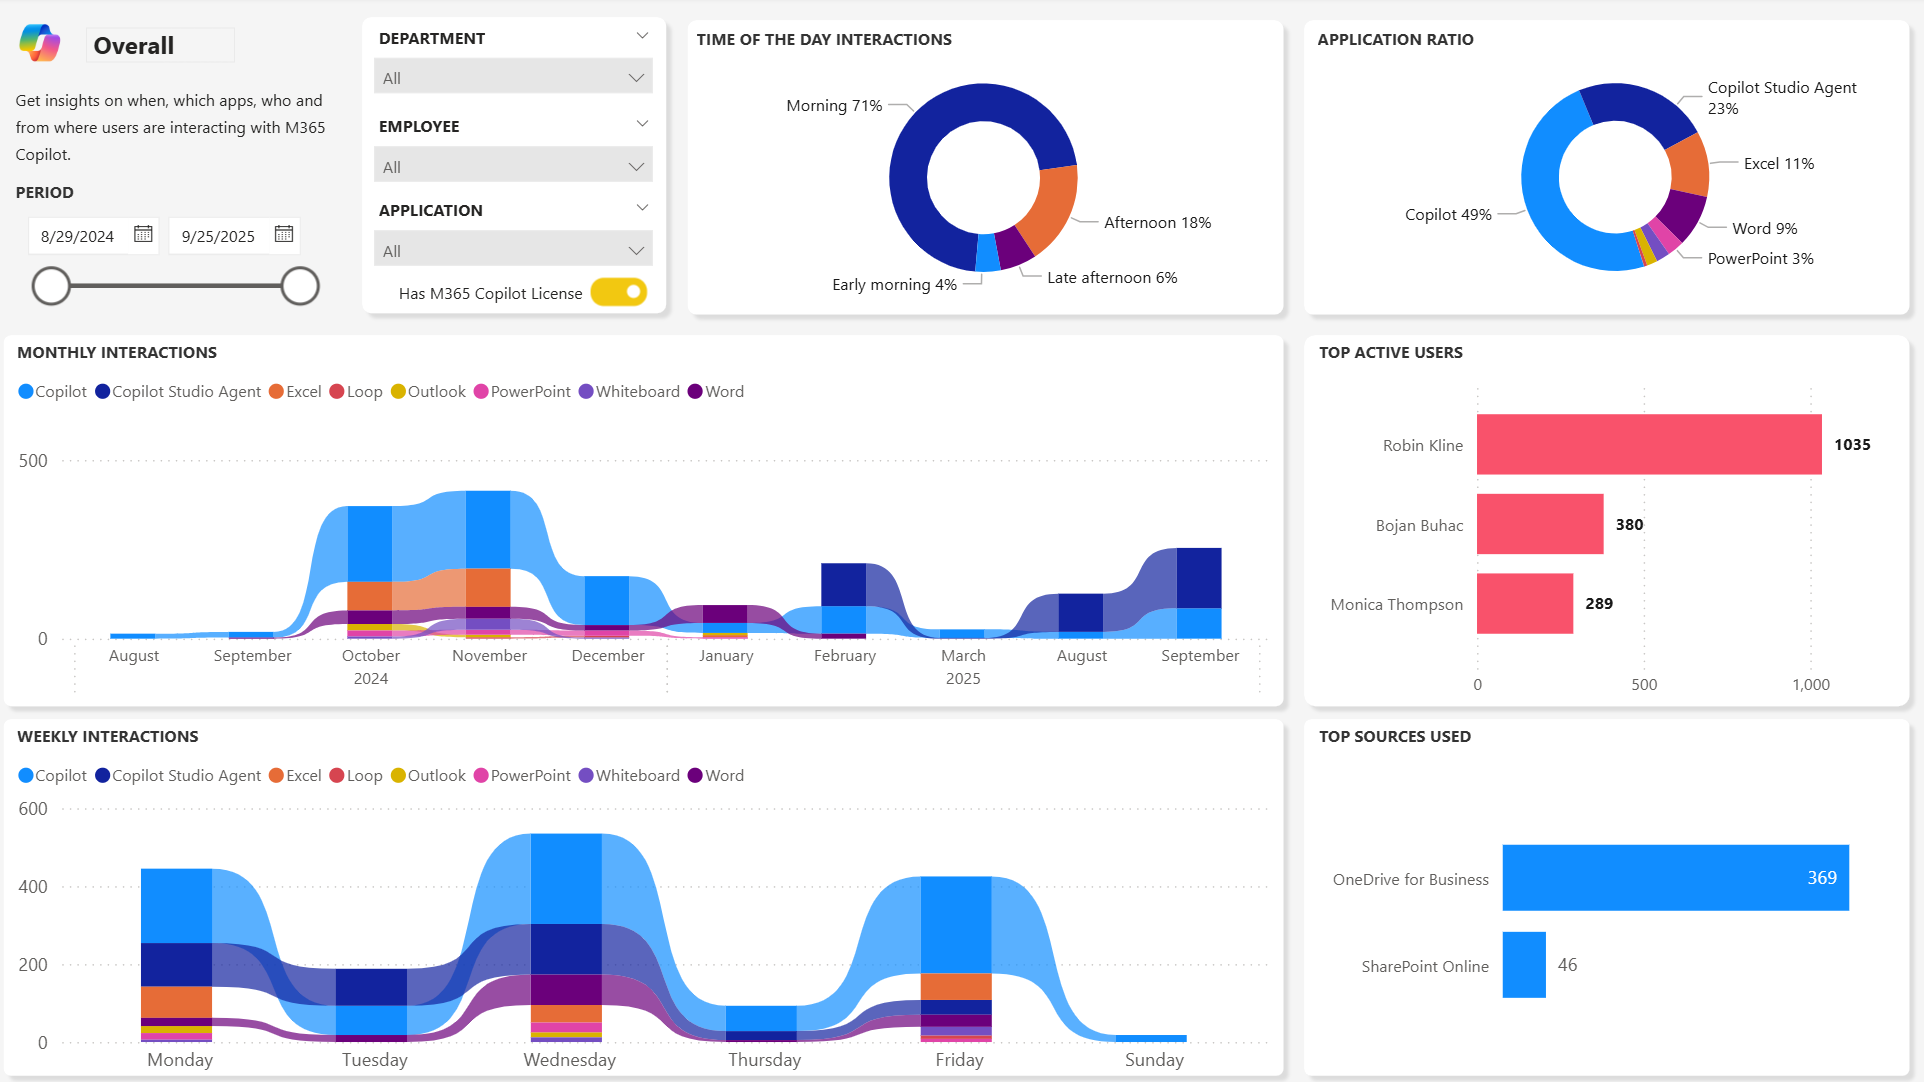

Layout of this report page (visuals, bound fields, positions):
{"tool":"powerbi","page":{"name":"Overall","canvas":[1280,720],"ordinal":0},"visuals":[{"type":"shape","box":[0,217,859.4,259.1],"z":0},{"type":"shape","box":[0,470.8,859.4,249.6],"z":1000},{"type":"shape","box":[859.4,217,413.9,259.1],"z":2000},{"type":"shape","box":[859.4,470.8,413.9,249.6],"z":3000},{"type":"shape","box":[237,7.4,214.9,209.6],"z":4000},{"type":"shape","box":[451.8,8.4,407.6,208.5],"z":5000},{"type":"shape","box":[859.4,8.4,413.9,208.5],"z":6000},{"type":"slicer","fields":{"Values":["Copilot.App"]},"box":[241.4,128.7,204.3,49.5],"z":7000},{"type":"slicer","fields":{"Values":["Users.DEPARTMENT"]},"box":[241.4,14.9,204.3,50.6],"z":8000},{"type":"donutChart","title":"APPLICATION RATIO","fields":{"Category":["Copilot.App"],"Y":["CountNonNull(Copilot.TimeStamp)"]},"box":[870.3,20.9,402.6,182.9],"z":9000},{"type":"ribbonChart","title":"MONTHLY INTERACTIONS","fields":{"Y":["CountNonNull(Copilot.TimeStamp)"],"Category":["Copilot.TimeStamp.Variation.Date Hierarchy.Year","Copilot.TimeStamp.Variation.Date Hierarchy.Month"],"Series":["Copilot.APPLICATION"]},"box":[10.5,227.5,838.4,243.3],"z":10000},{"type":"slicer","title":"PERIOD","fields":{"Values":["Copilot.TimeStamp"]},"box":[10.4,121.6,213.9,88.8],"z":11000},{"type":"ribbonChart","title":"WEEKLY INTERACTIONS","fields":{"Series":["Copilot.App"],"Y":["CountNonNull(Copilot.App)"],"Category":["WeekDays.Week day"]},"box":[10.5,481.3,838.4,239.1],"z":12000},{"type":"barChart","title":"TOP SOURCES USED","fields":{"Y":["CountNonNull(Copilot.TimeStamp)"],"Category":["Copilot.Location"]},"box":[871,481.3,386.5,239.1],"z":13000},{"type":"barChart","title":"TOP ACTIVE USERS","fields":{"Y":["CountNonNull(Copilot.TimeStamp)"],"Category":["Users.EMPLOYEE"]},"box":[871,227.5,395,243.3],"z":14000},{"type":"donutChart","title":"TIME OF THE DAY INTERACTIONS","fields":{"Y":["CountNonNull(Copilot.TimeStamp)"],"Category":["Copilot.Time of the day"]},"box":[460.2,20.9,388.4,183.8],"z":15000},{"type":"slicer","fields":{"Values":["Users.EMPLOYEE"]},"box":[241.4,72.9,204.3,49.5],"z":16000},{"type":"image","box":[10.8,10.8,39.5,39.5],"z":17000},{"type":"textbox","box":[61.8,21,97.7,22.3],"z":18000},{"type":"textbox","box":[10.4,52.6,226.8,69],"z":19000},{"type":"advancedtoggleswitch","fields":{"Category":["Users.HasCopilotLicense"]},"box":[389.6,165.7,47.5,49.3],"z":20000},{"type":"textbox","box":[260,185,130,20.7],"z":21000}]}

Visuals, with their boxes in screenshot pixels (x1, y1, x2, y2), scaled from the page's 1280x720 canvas onto the 1924x1082 screenshot:
shape: region(0, 326, 1292, 715)
shape: region(0, 708, 1292, 1081)
shape: region(1292, 326, 1914, 715)
shape: region(1292, 708, 1914, 1081)
shape: region(356, 11, 679, 326)
shape: region(679, 13, 1292, 326)
shape: region(1292, 13, 1914, 326)
slicer - Copilot.App: region(363, 193, 670, 268)
slicer - Users.DEPARTMENT: region(363, 22, 670, 98)
"APPLICATION RATIO" donutChart: region(1308, 31, 1913, 306)
"MONTHLY INTERACTIONS" ribbonChart: region(16, 342, 1276, 708)
"PERIOD" slicer: region(16, 183, 337, 316)
"WEEKLY INTERACTIONS" ribbonChart: region(16, 723, 1276, 1081)
"TOP SOURCES USED" barChart: region(1309, 723, 1890, 1081)
"TOP ACTIVE USERS" barChart: region(1309, 342, 1903, 708)
"TIME OF THE DAY INTERACTIONS" donutChart: region(692, 31, 1276, 308)
slicer - Users.EMPLOYEE: region(363, 110, 670, 184)
image: region(16, 16, 76, 76)
textbox: region(93, 32, 240, 65)
textbox: region(16, 79, 357, 183)
advancedtoggleswitch - Users.HasCopilotLicense: region(586, 249, 657, 323)
textbox: region(391, 278, 586, 309)
